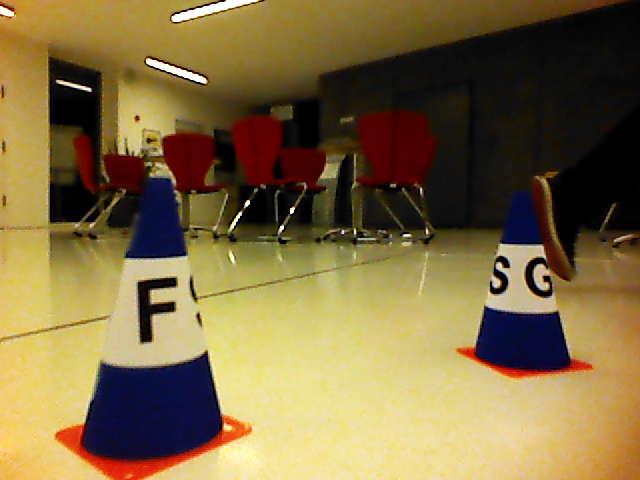bluecone: (81, 177, 223, 461), (475, 189, 574, 369)
